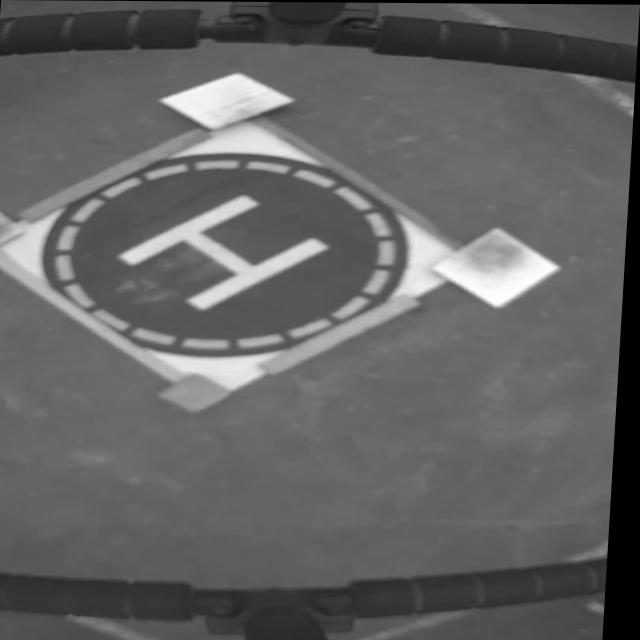Helipad: (118, 192, 329, 312)
